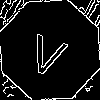V: (25, 25, 72, 79)
